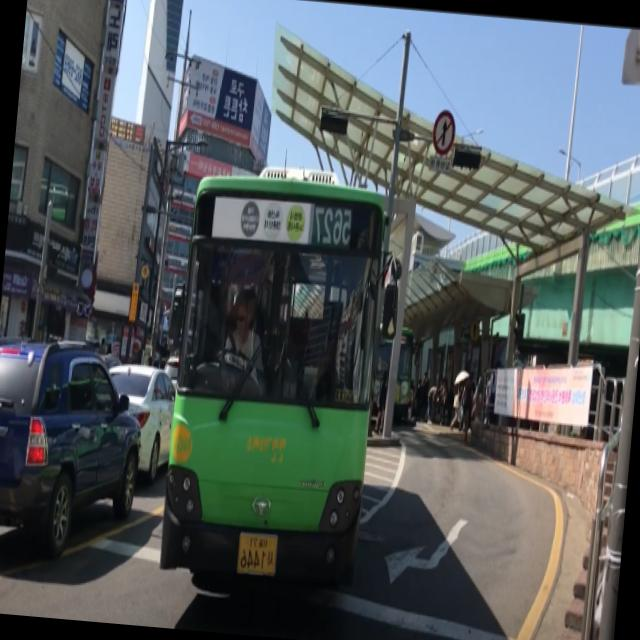bus-number: (311, 204, 354, 248)
